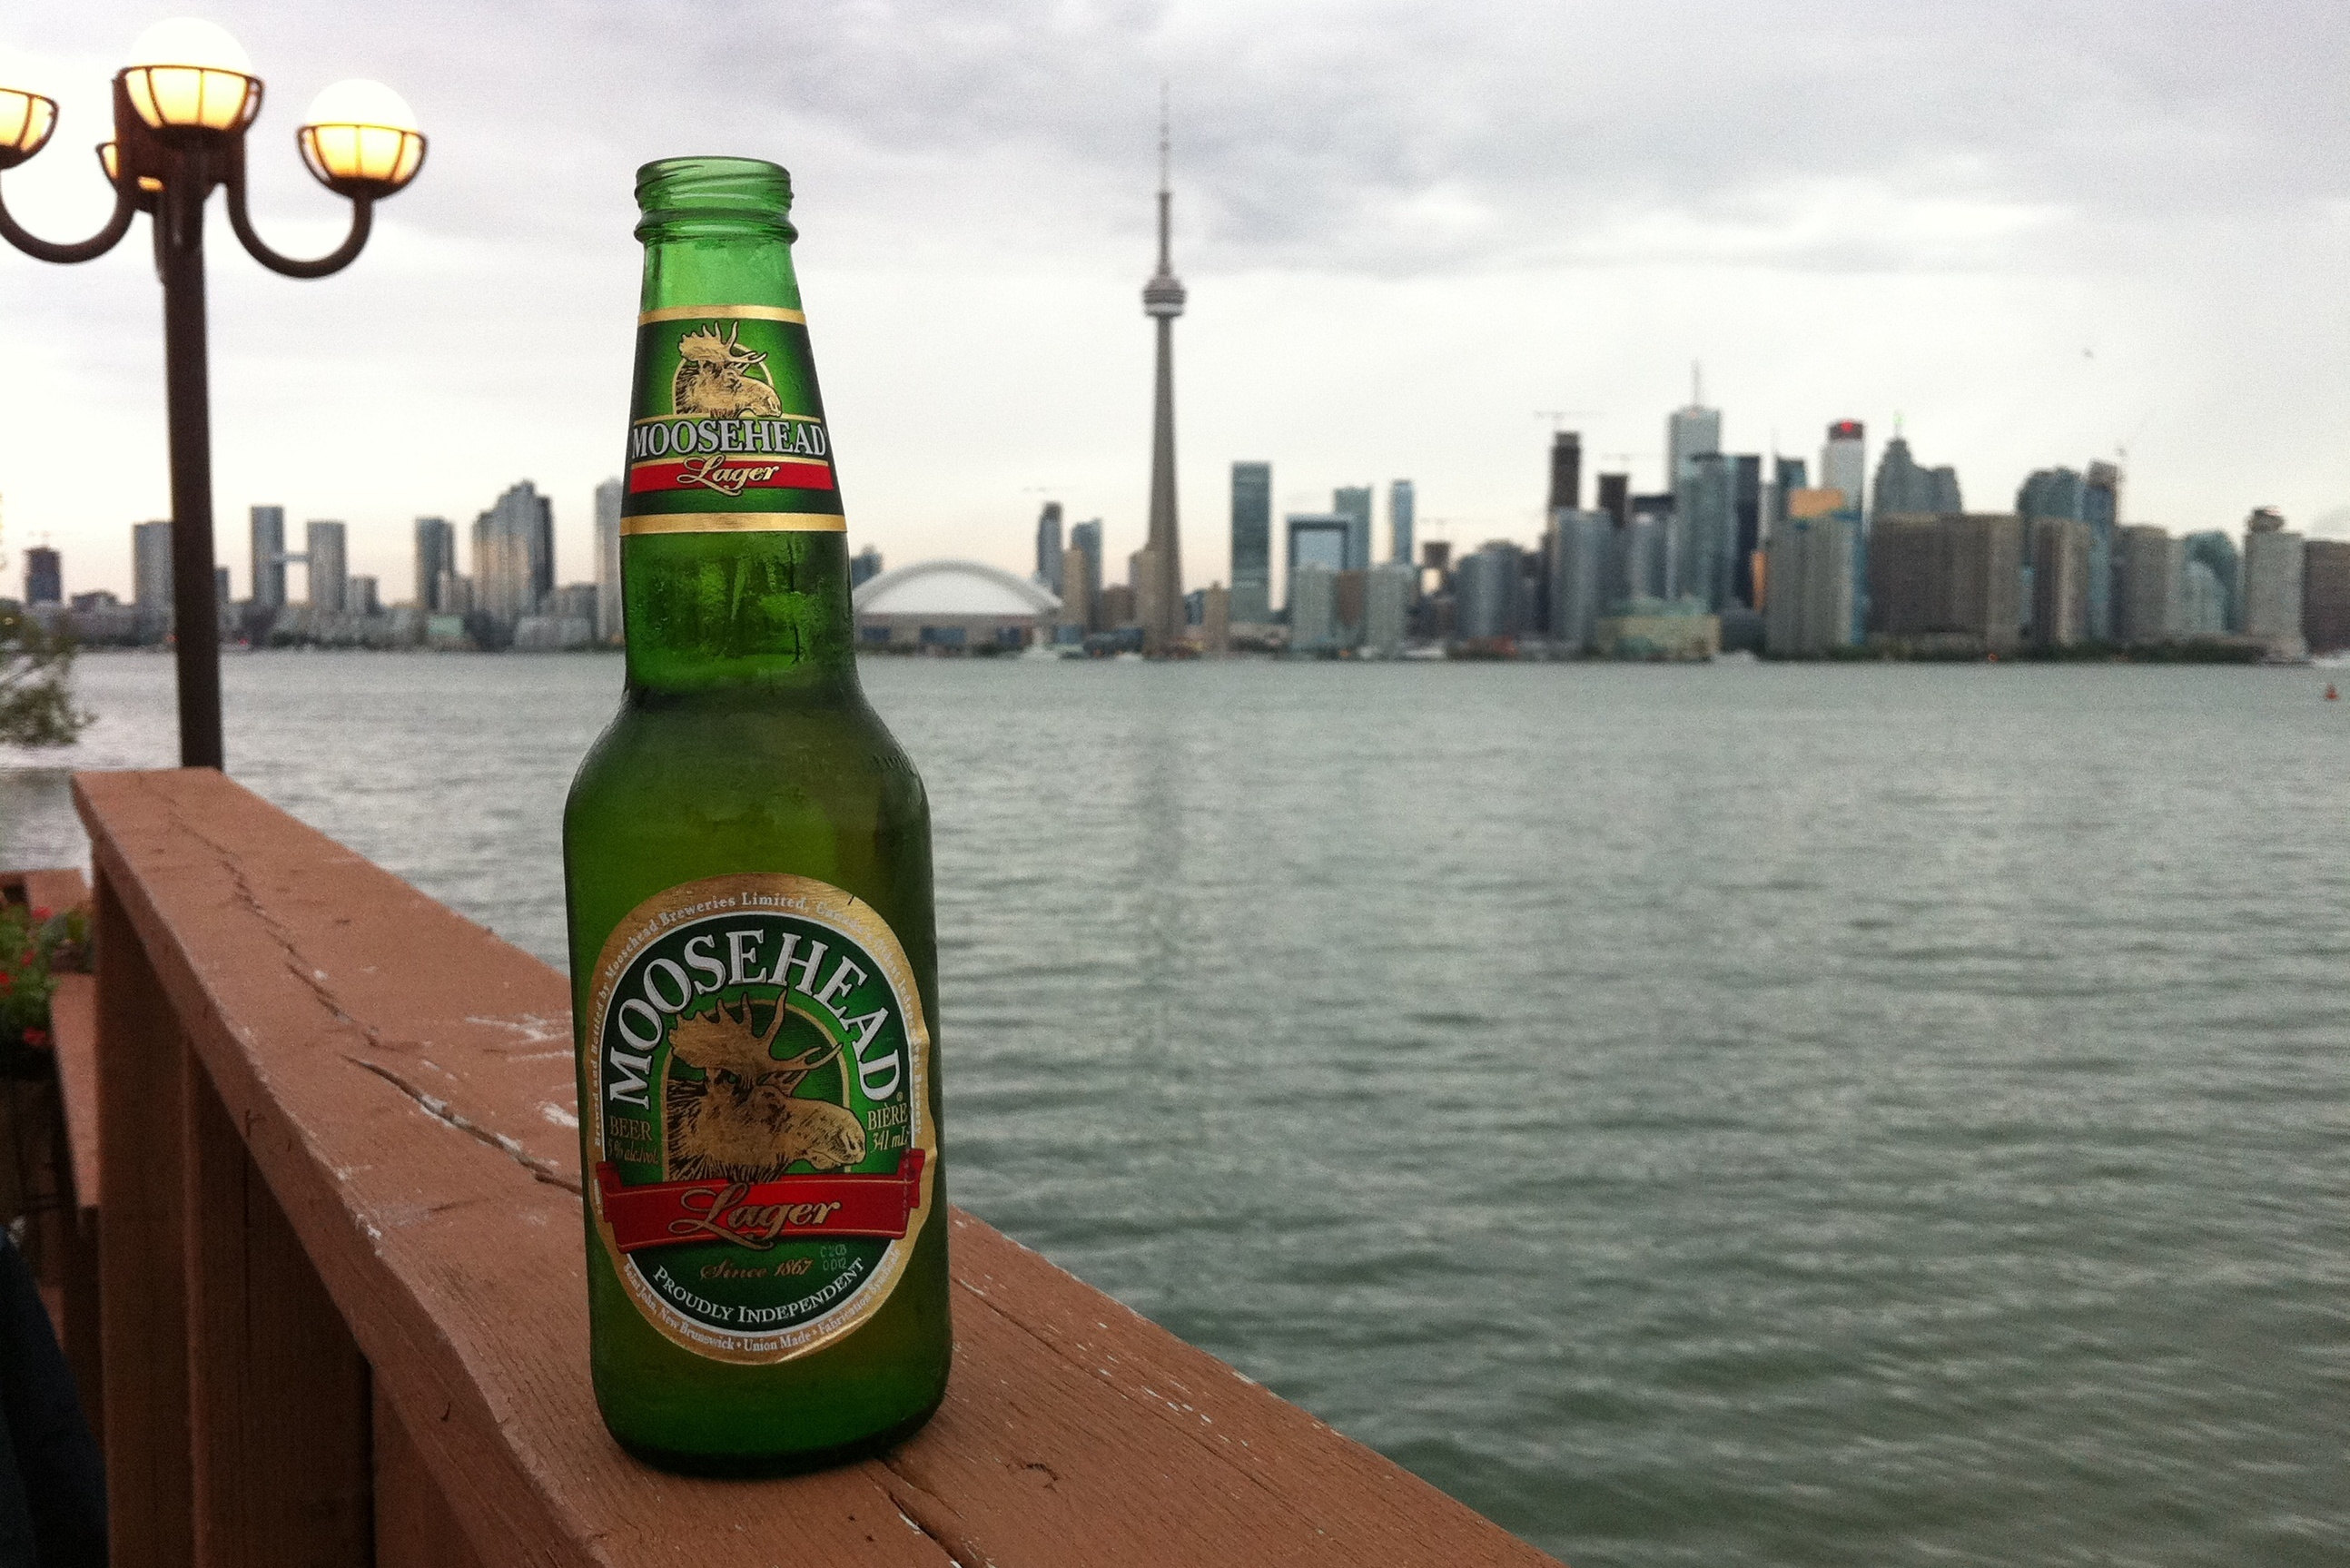beerBottle: (567, 161, 945, 1477)
